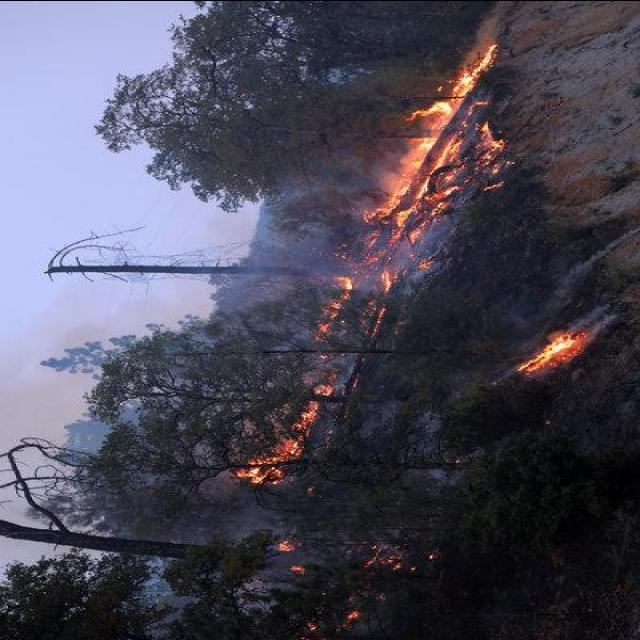Fire: (308, 41, 511, 342), (230, 404, 328, 486), (514, 318, 594, 385)
